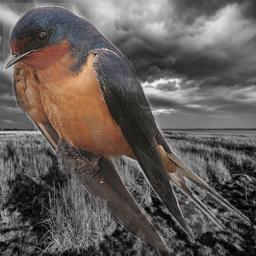Swallow: (3, 3, 249, 252)
